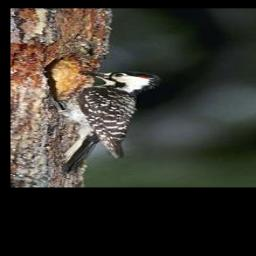Woodpecker: (42, 69, 168, 174)
